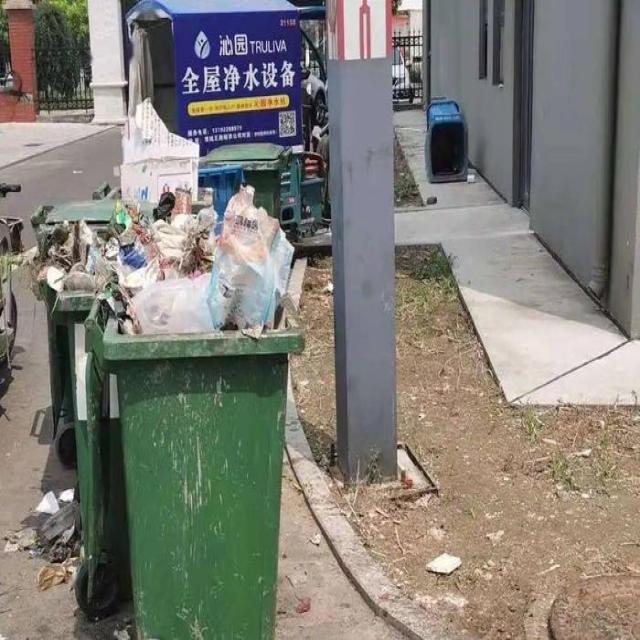garbage: (3, 484, 81, 587)
overflow: (84, 183, 305, 639)
